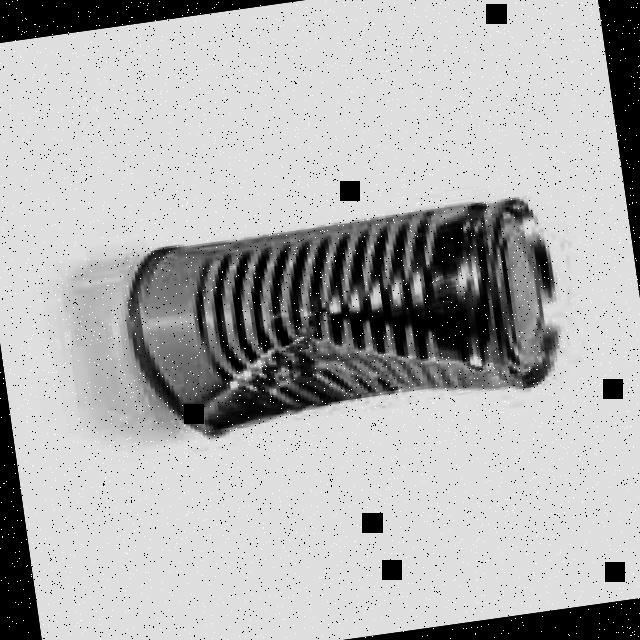can: (120, 192, 576, 444)
